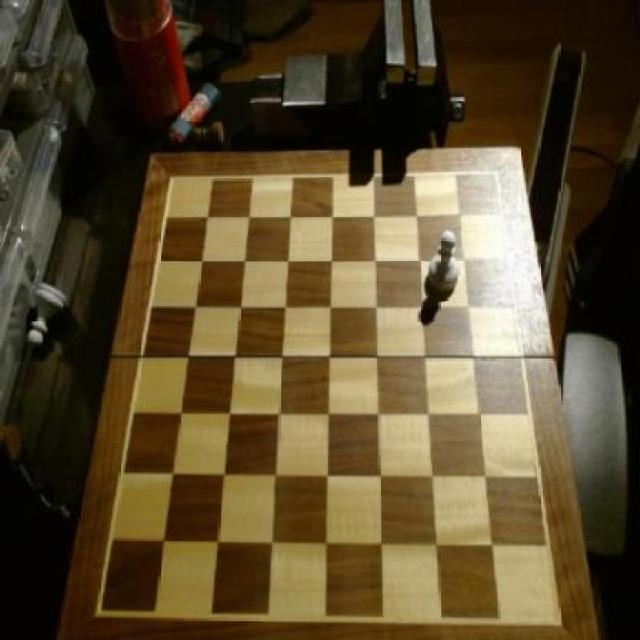white-knight: (425, 231, 462, 299)
